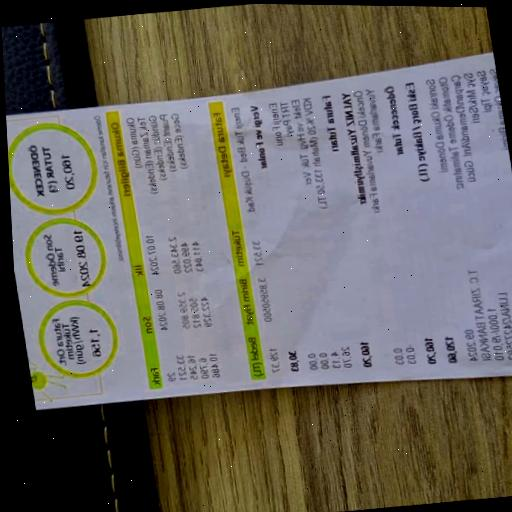electricity-bill: (6, 51, 512, 409)
